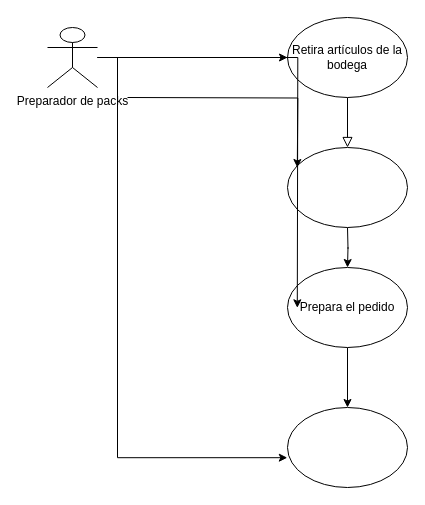
Some shapes in this 425 by 505 pixel diagram are drawn without their labels. The shapes that lost their labels are listed below. From the top down, each one's box as (x1, y1, x2, y2) in pixels, then its label:
(286, 146, 408, 228): Arma packs
(286, 406, 408, 488): Entrega producto al repartidor
